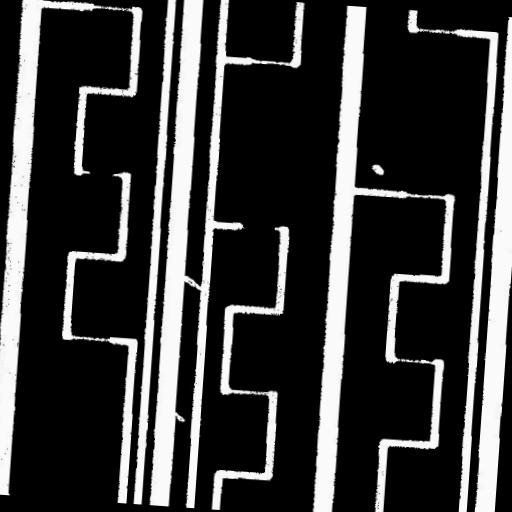mousebite: (160, 400, 194, 430)
open: (171, 266, 211, 299)
pin-hole: (363, 156, 392, 183)
short: (234, 212, 283, 242), (80, 158, 122, 186)
